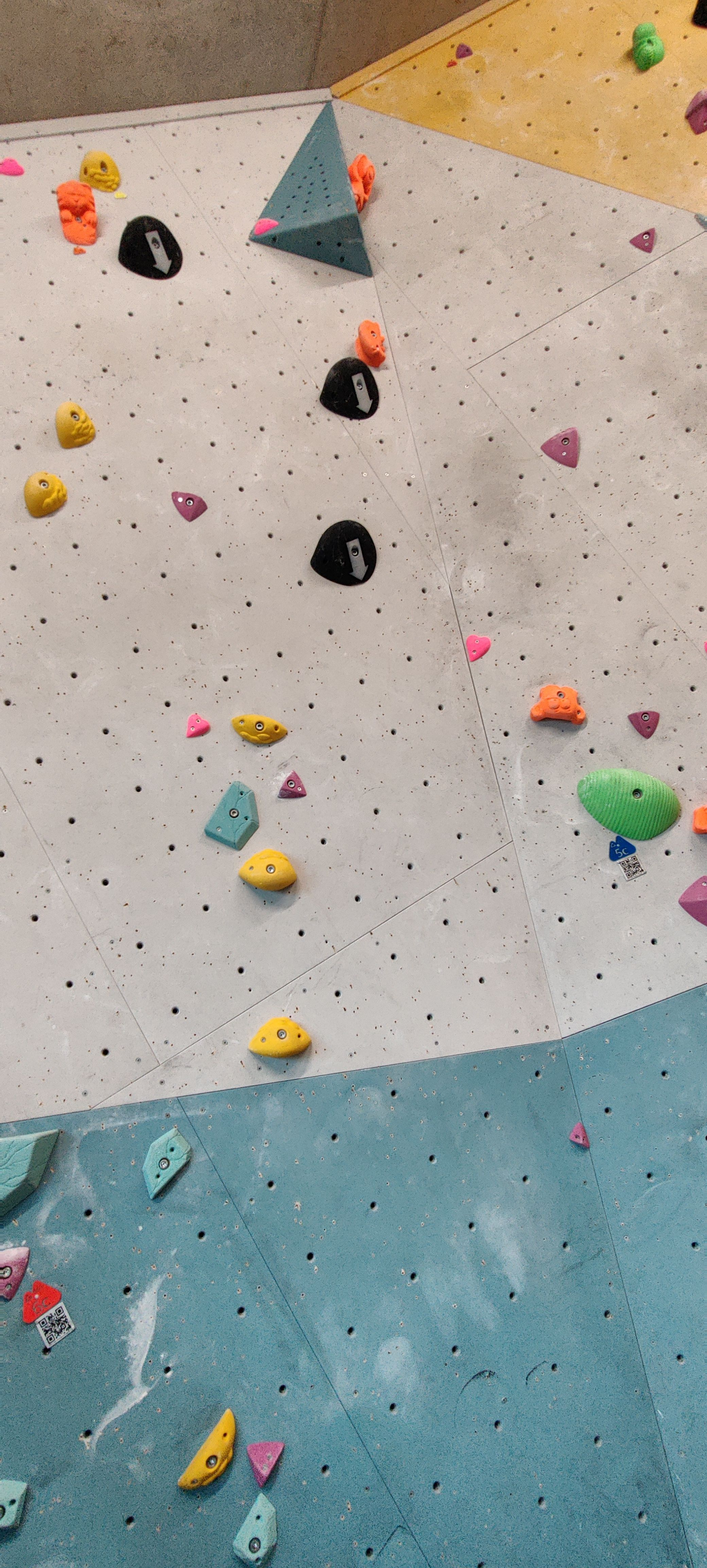hold: (577, 769, 677, 840), (2, 1132, 56, 1220), (178, 1411, 233, 1487), (310, 519, 375, 583), (120, 216, 181, 277), (318, 357, 375, 416), (206, 784, 257, 847), (232, 1494, 274, 1565), (144, 1129, 188, 1196), (56, 184, 96, 242), (249, 1019, 308, 1056), (240, 850, 291, 889), (24, 473, 66, 517), (529, 686, 583, 720), (79, 150, 120, 191), (56, 404, 93, 446), (678, 875, 707, 926), (355, 320, 385, 368), (247, 1443, 282, 1484), (0, 1480, 27, 1532), (632, 24, 661, 71), (232, 715, 282, 742), (540, 429, 575, 466), (2, 1247, 27, 1298), (350, 154, 369, 206), (171, 492, 203, 517), (685, 91, 702, 132), (465, 637, 487, 662), (628, 710, 653, 732), (279, 772, 301, 797), (628, 228, 651, 250), (692, 805, 707, 835), (188, 715, 208, 732), (0, 159, 22, 174), (570, 1122, 585, 1144), (690, 2, 702, 27), (252, 218, 271, 233), (455, 46, 467, 56)
volume: (249, 100, 369, 272)
